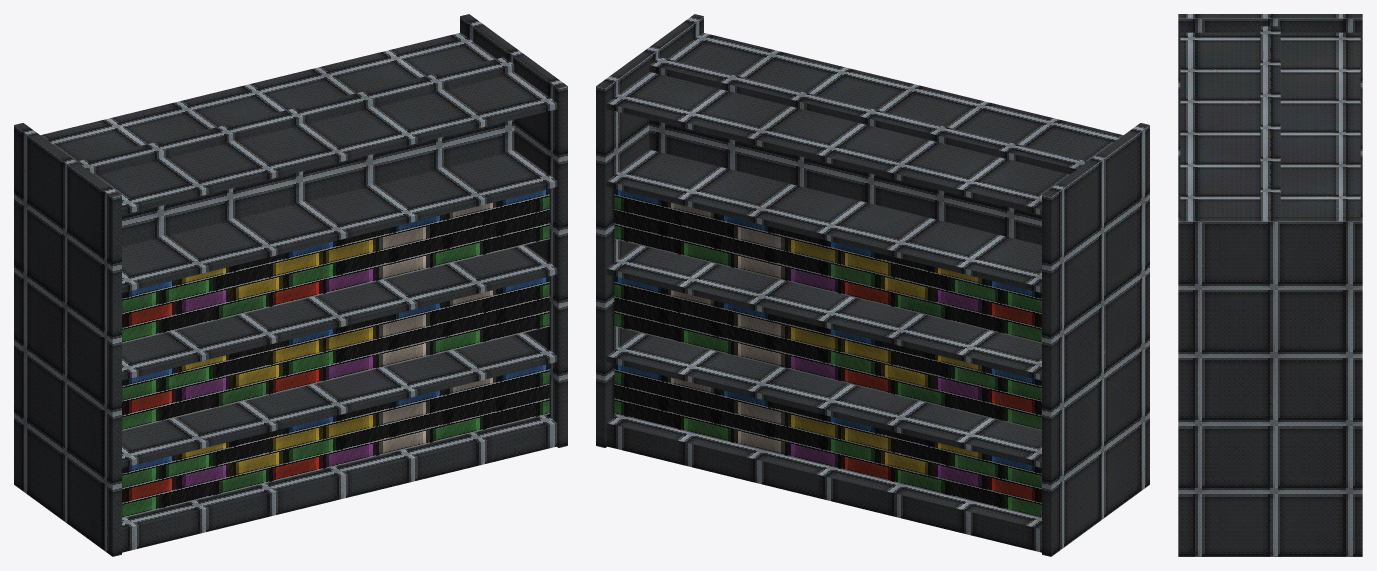
File: int_store_shelf.glb
3 renders of one model, left to right at view 1: azimuth 30°, elevation 25°; view 2: azimuth 150°, elevation 25°; view 3: azimuth 270°, elevation 25°, orthographic. The views are drawn at different scales.
Visible parts, largest first — view 1: int_store_shelf_mesh; view 2: int_store_shelf_mesh; view 3: int_store_shelf_mesh.
Part boxes in pixels (x1=…): int_store_shelf_mesh: x1=14, y1=14, x2=567, y2=556; int_store_shelf_mesh: x1=596, y1=14, x2=1149, y2=556; int_store_shelf_mesh: x1=1178, y1=14, x2=1362, y2=556.
Size of what is drawn, in the model's own units: 2.45 by 1.85 by 0.92.
Materials: 2 (2 with a texture image).
